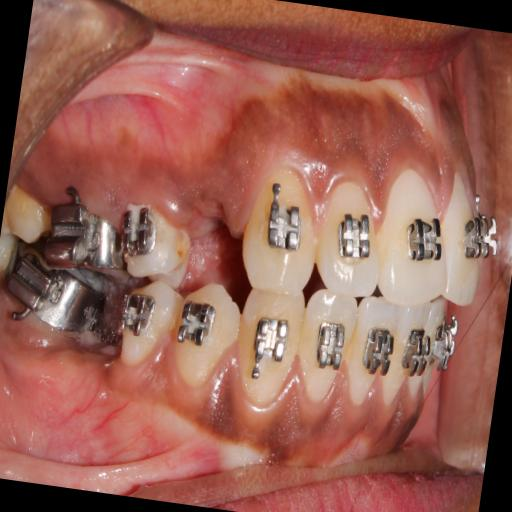correct_brace: (114, 198, 196, 294), (400, 205, 448, 272), (261, 196, 307, 261), (333, 205, 378, 269)
incorrect_brace: (312, 174, 389, 299), (116, 198, 164, 264)
